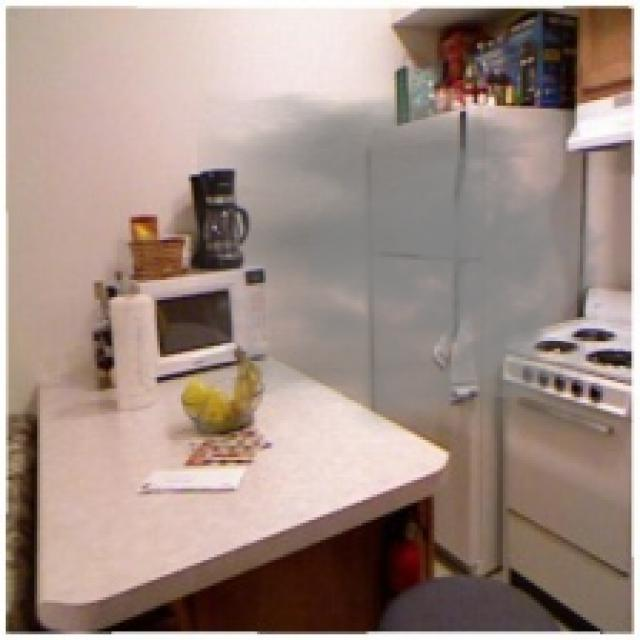smoke: (197, 92, 612, 434)
